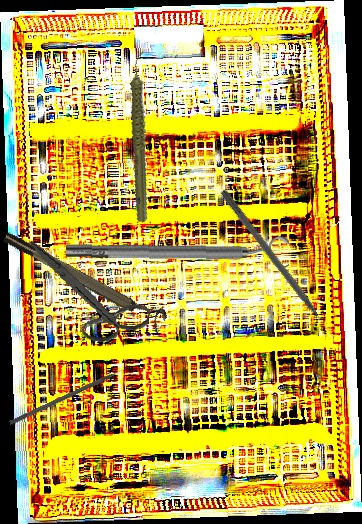Fixation Ring: (1, 222, 170, 334), (65, 231, 290, 271)
Handpiece: (100, 49, 183, 225)
Hook Surgical: (8, 365, 132, 427)
Iris Scissors: (16, 240, 159, 349)
Pusher: (217, 188, 338, 342)
